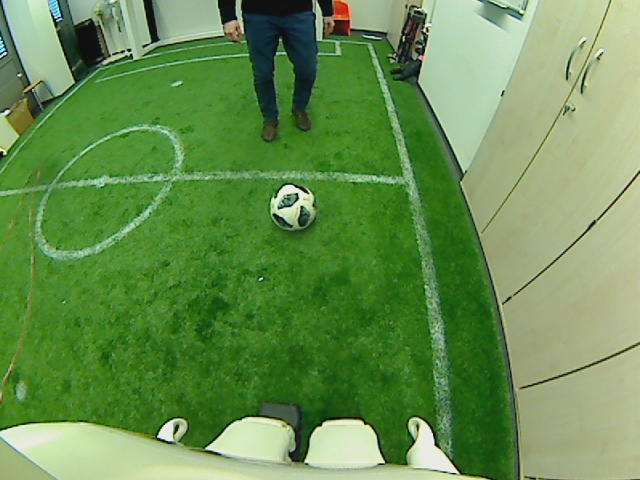ball: (269, 181, 315, 229)
